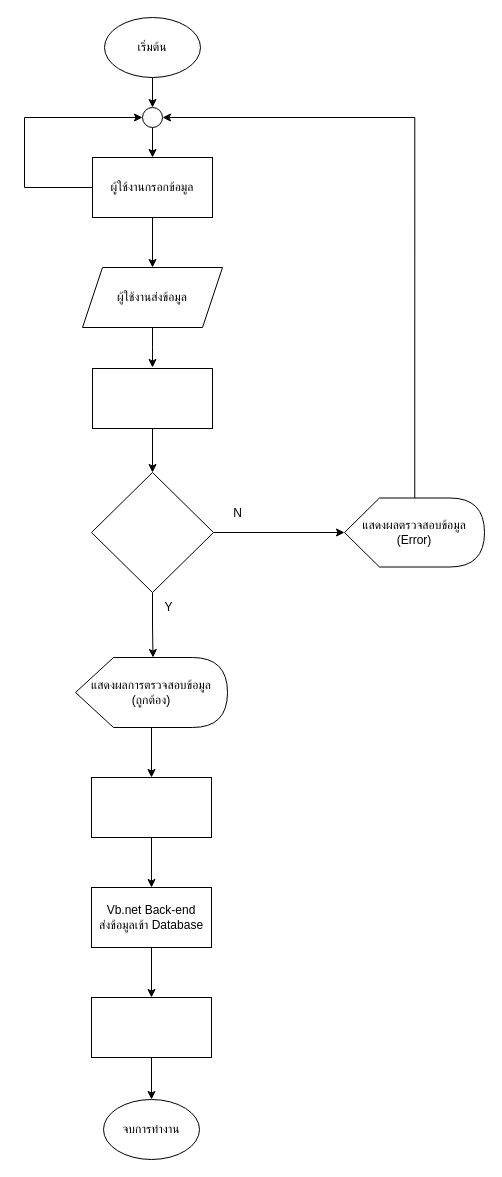
Some shapes in this 502 by 1177 pixel diagram are drawn without their labels. Here are the shapes that lost their labels. From the top down, the box of each, then its label:
(92, 368, 212, 428): ทำการฝากข้อมูล .NET
(90, 472, 214, 592): ระบบตรวจสอบข้อมูล
(90, 776, 212, 838): ASP.net ทำการส่ง ข้อมูลไปยัง Back-end
(90, 996, 212, 1058): บันทึกข้อมูลลง Databaes
